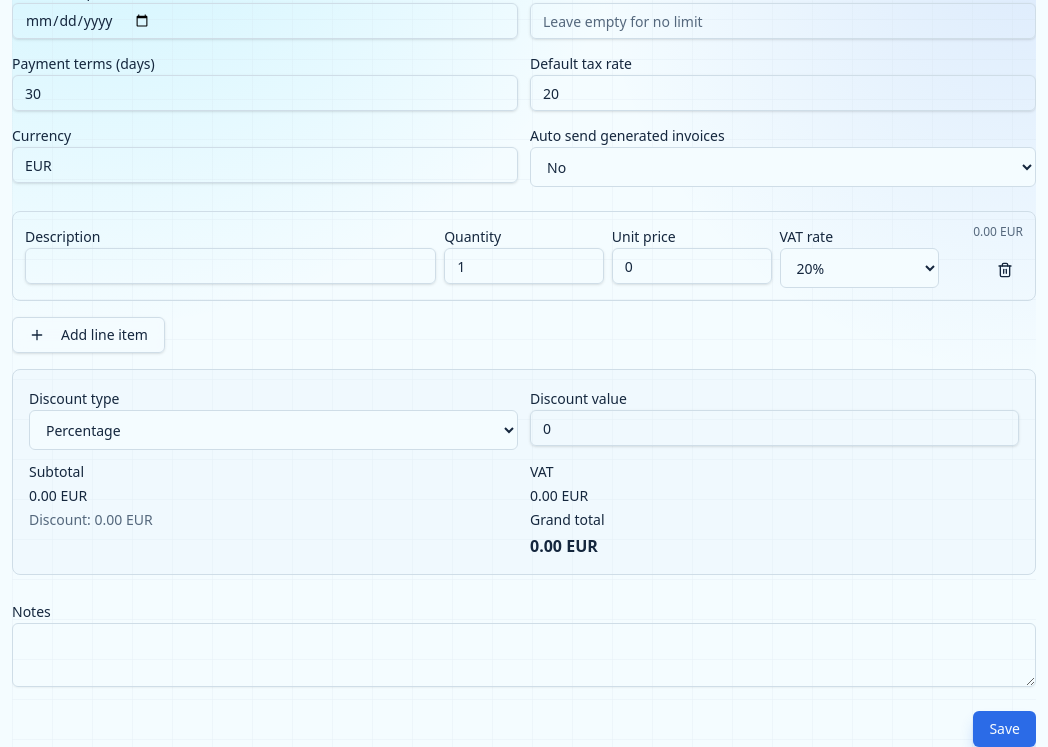
Test case: RecurringInvoiceForm › validates required client and profile name
The image size is (1048, 747).
(page scrolled)
Submit the form from the button "Save", box [973, 711, 1036, 746]
(page scrolled)
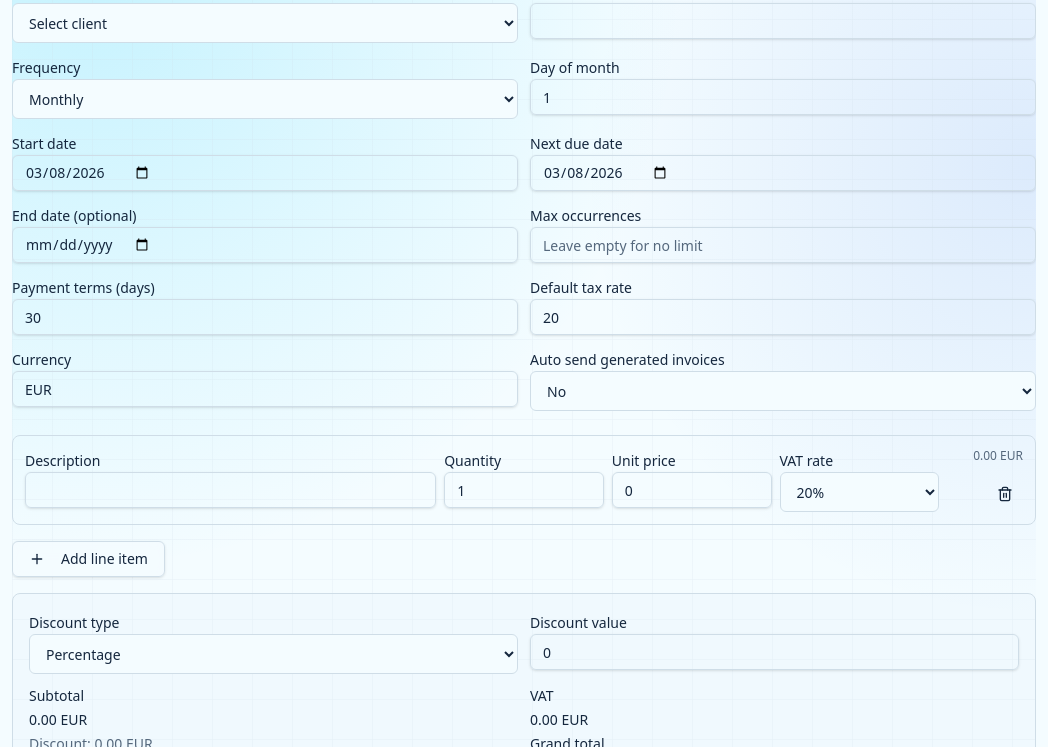
Select "Acme" in the dropdown labelled "Client" at coordinates (265, 23), box [12, 3, 518, 43]
(page scrolled)
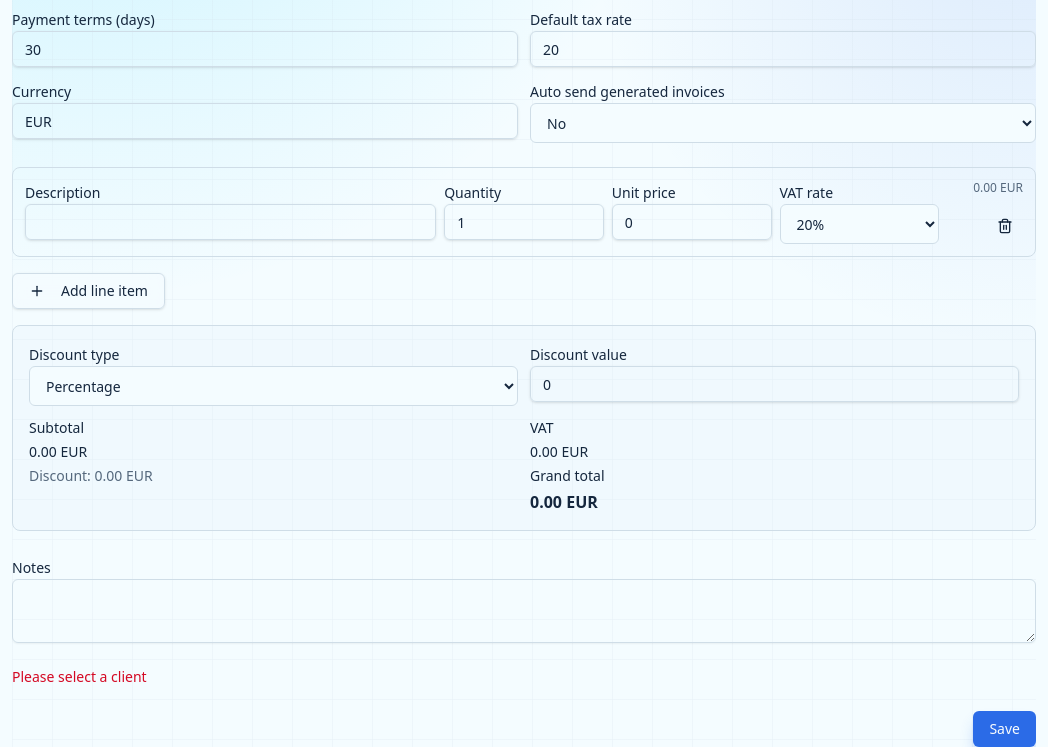
Submit the form from the button "Save", box [973, 711, 1036, 746]
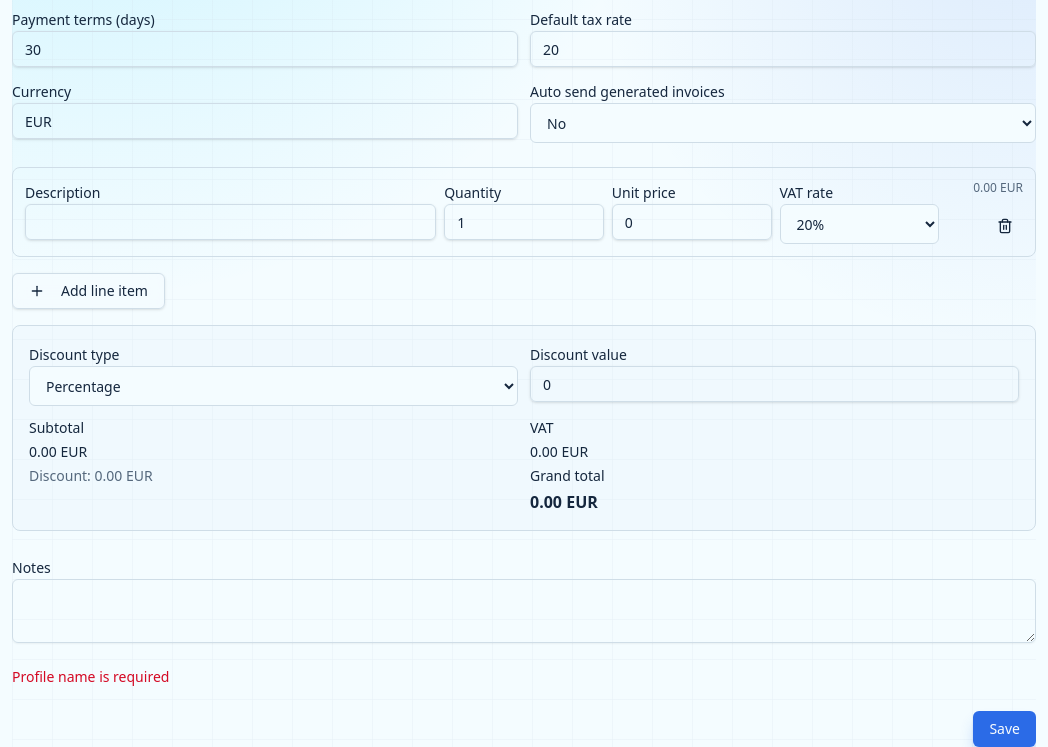
Check: the text "Profile name is required" is shown, box [12, 667, 169, 686]
